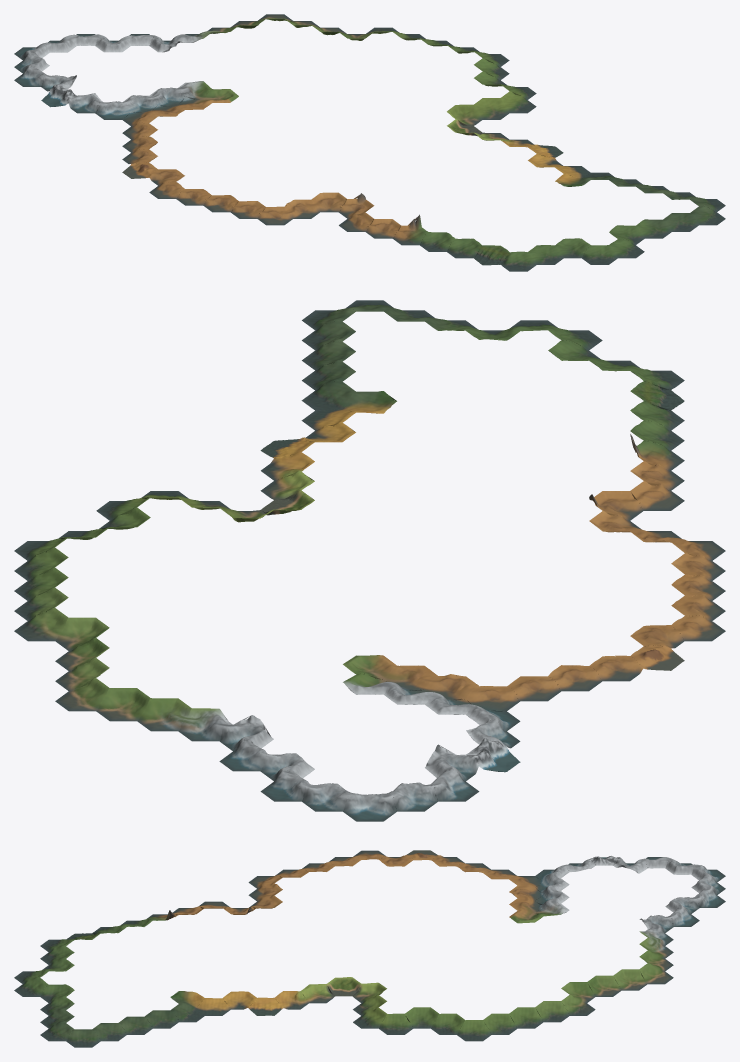
File: litoral.glb
The picture shows the model from 3 angles, top to bottom: view 1: azimuth 30°, elevation 25°; view 2: azimuth 150°, elevation 25°; view 3: azimuth 270°, elevation 25°; orthographic projection. The views are drawn at different scales.
Parts seen in each view (by area): view 1: costa_-04_+10, costa_+07_+02, costa_-04_+12, costa_-04_+14, costa_-02_+15, costa_-03_+06, falesia, costa_+00_-05, costa_-04_+09, costa_-04_+11, costa_-02_+14, costa_+01_+14 (+23 smaller); view 2: costa_+09_-09, costa_+08_-09, costa_+07_-09, costa_+03_-11, costa_+06_-09, costa_+11_-06, costa_+10_-06, costa_+01_-08, costa_+02_-10, costa_+04_-11, costa_-02_-02, costa_+10_-09 (+35 smaller); view 3: costa_+11_-02, costa_+11_-04, costa_+09_+01, costa_+11_-05, costa_+10_-07, costa_+11_-03, costa_+10_-01, costa_+10_-08, costa_+09_+00, praia, costa_+04_+13, costa_+05_+04 (+37 smaller).
Part boxes in pixels (box(x1,y1,x2,y2)): costa_-04_+10: box(392, 214, 427, 245); costa_+07_+02: box(474, 98, 509, 119); costa_-04_+12: box(447, 238, 482, 258); costa_-04_+14: box(501, 251, 536, 271); costa_-02_+15: box(582, 245, 617, 264); costa_-03_+06: box(311, 192, 346, 212); falesia: box(474, 245, 509, 265); costa_+00_-05: box(95, 101, 130, 119); costa_-04_+09: box(366, 219, 401, 238); costa_-04_+11: box(420, 232, 455, 251); costa_-02_+14: box(555, 238, 590, 258); costa_+01_+14: box(636, 219, 671, 238); costa_+09_-09: box(96, 688, 150, 721); costa_+08_-09: box(137, 698, 191, 731); costa_+07_-09: box(178, 708, 232, 741); costa_+03_-11: box(343, 793, 396, 821); costa_+06_-09: box(219, 715, 273, 751); costa_+11_-06: box(14, 607, 68, 641); costa_+10_-06: box(55, 617, 109, 650); costa_+01_-08: box(425, 744, 479, 781); costa_+02_-10: box(388, 782, 437, 811); costa_+04_-11: box(302, 783, 351, 811); costa_-02_-02: box(548, 665, 602, 691); costa_+10_-09: box(55, 678, 109, 711); costa_+11_-02: box(457, 1020, 490, 1041); costa_+11_-04: box(509, 1007, 543, 1028); costa_+09_+01: box(379, 1013, 413, 1034); costa_+11_-05: box(535, 1001, 569, 1022); costa_+10_-07: box(587, 975, 621, 996); costa_+11_-03: box(483, 1013, 517, 1034); costa_+10_-01: box(431, 1013, 465, 1034); costa_+10_-08: box(613, 969, 647, 990); costa_+09_+00: box(405, 1007, 438, 1028); praia: box(327, 977, 360, 996); costa_+04_+13: box(66, 1029, 100, 1047); costa_+05_+04: box(301, 984, 334, 1003).
Size of the model in its own units: 67117 by 2783 by 102500.
